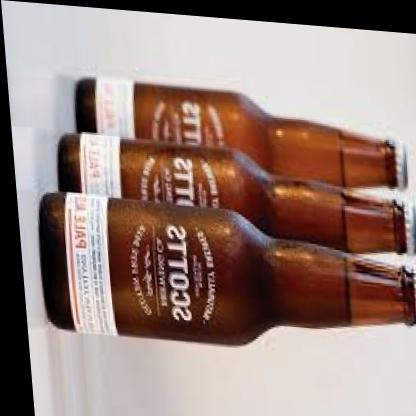trash: (40, 193, 415, 344), (58, 133, 406, 252), (134, 83, 397, 186)
